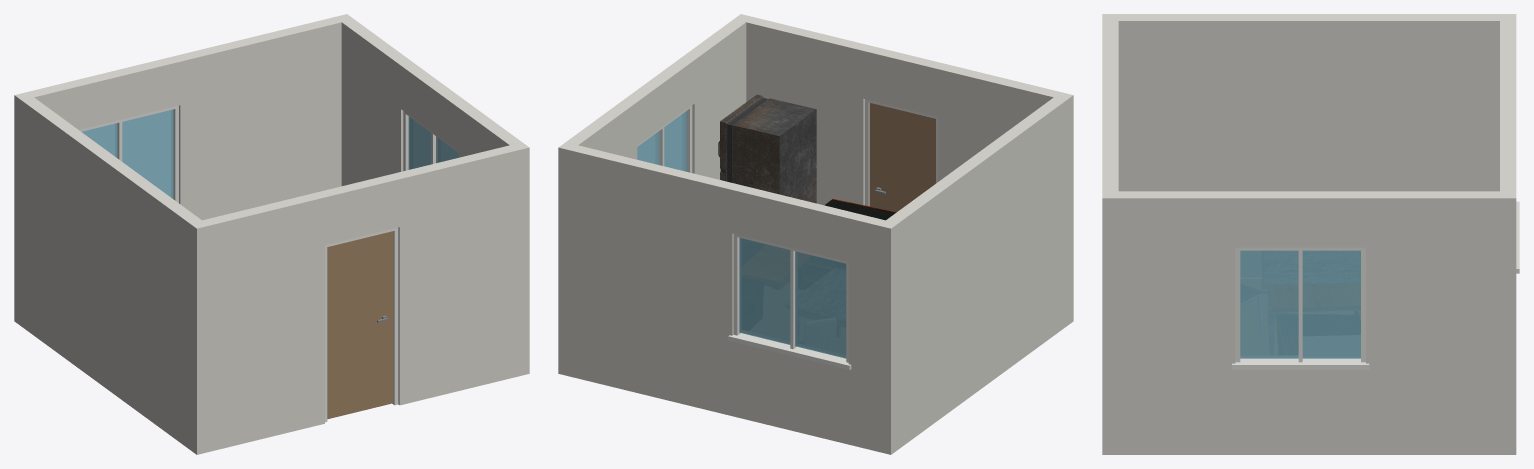
File: layoutvlm.glb
3 renders of one model, left to right at view 1: azimuth 30°, elevation 25°; view 2: azimuth 150°, elevation 25°; view 3: azimuth 270°, elevation 25°, orthographic. The views are drawn at different scales.
Parts seen in each view (by area): view 1: wall|scenesmith_058__R00|0, wall|scenesmith_058__R00|2, wall|scenesmith_058__R00|1, wall|scenesmith_058__R00|3, wall|scenesmith_058__R00|0 Door 0 | wood leaf, wall|scenesmith_058__R00|1 Window 0 | glazing, wall|scenesmith_058__R00|0 Door 0 | jamb, wall|scenesmith_058__R00|3 Window 0 | glazing, wall|scenesmith_058__R00|1 Window 0 | jamb, wall|scenesmith_058__R00|3 Window 0 | jamb; view 2: wall|scenesmith_058__R00|1, wall|scenesmith_058__R00|2, wall|scenesmith_058__R00|0, wall|scenesmith_058__R00|3, wall|scenesmith_058__R00|1 Window 0 | glazing, scenesmith_058__R00_fridge-0, wall|scenesmith_058__R00|0 Door 0 | wood leaf, wall|scenesmith_058__R00|1 Window 0 | jamb, wall|scenesmith_058__R00|3 Window 0 | glazing, wall|scenesmith_058__R00|0 Door 0 | jamb, wall|scenesmith_058__R00|3 Window 0 | jamb, scenesmith_058__R00_countertop-0; view 3: wall|scenesmith_058__R00|3, wall|scenesmith_058__R00|2, wall|scenesmith_058__R00|3 Window 0 | glazing, wall|scenesmith_058__R00|3 Window 0 | jamb, wall|scenesmith_058__R00|0, wall|scenesmith_058__R00|1.
Boxes of the visible parts, left/top/right/bottom form: wall|scenesmith_058__R00|0: left=190, top=142, right=529, bottom=454; wall|scenesmith_058__R00|2: left=14, top=92, right=201, bottom=454; wall|scenesmith_058__R00|1: left=14, top=17, right=341, bottom=326; wall|scenesmith_058__R00|3: left=335, top=14, right=521, bottom=185; wall|scenesmith_058__R00|0 Door 0 | wood leaf: left=327, top=231, right=393, bottom=419; wall|scenesmith_058__R00|1 Window 0 | glazing: left=81, top=109, right=173, bottom=199; wall|scenesmith_058__R00|0 Door 0 | jamb: left=325, top=227, right=398, bottom=422; wall|scenesmith_058__R00|3 Window 0 | glazing: left=408, top=116, right=458, bottom=169; wall|scenesmith_058__R00|1 Window 0 | jamb: left=79, top=105, right=178, bottom=202; wall|scenesmith_058__R00|3 Window 0 | jamb: left=403, top=111, right=458, bottom=171; wall|scenesmith_058__R00|1: left=571, top=145, right=898, bottom=454; wall|scenesmith_058__R00|2: left=878, top=95, right=1073, bottom=454; wall|scenesmith_058__R00|0: left=734, top=14, right=1073, bottom=205; wall|scenesmith_058__R00|3: left=558, top=19, right=746, bottom=376; wall|scenesmith_058__R00|1 Window 0 | glazing: left=739, top=237, right=846, bottom=358; scenesmith_058__R00_fridge-0: left=718, top=94, right=816, bottom=203; wall|scenesmith_058__R00|0 Door 0 | wood leaf: left=869, top=103, right=935, bottom=212; wall|scenesmith_058__R00|1 Window 0 | jamb: left=728, top=234, right=851, bottom=369; wall|scenesmith_058__R00|3 Window 0 | glazing: left=637, top=111, right=686, bottom=171; wall|scenesmith_058__R00|0 Door 0 | jamb: left=865, top=99, right=938, bottom=206; wall|scenesmith_058__R00|3 Window 0 | jamb: left=637, top=105, right=692, bottom=172; scenesmith_058__R00_countertop-0: left=824, top=198, right=896, bottom=220; wall|scenesmith_058__R00|3: left=1102, top=191, right=1516, bottom=454; wall|scenesmith_058__R00|2: left=1118, top=14, right=1516, bottom=191; wall|scenesmith_058__R00|3 Window 0 | glazing: left=1240, top=250, right=1360, bottom=358; wall|scenesmith_058__R00|3 Window 0 | jamb: left=1232, top=247, right=1369, bottom=369; wall|scenesmith_058__R00|0: left=1102, top=14, right=1118, bottom=198; wall|scenesmith_058__R00|1: left=1500, top=21, right=1516, bottom=191.
Size of the model in its own units: 4.03 by 2.61 by 3.83.
15 materials, 8 textured.
